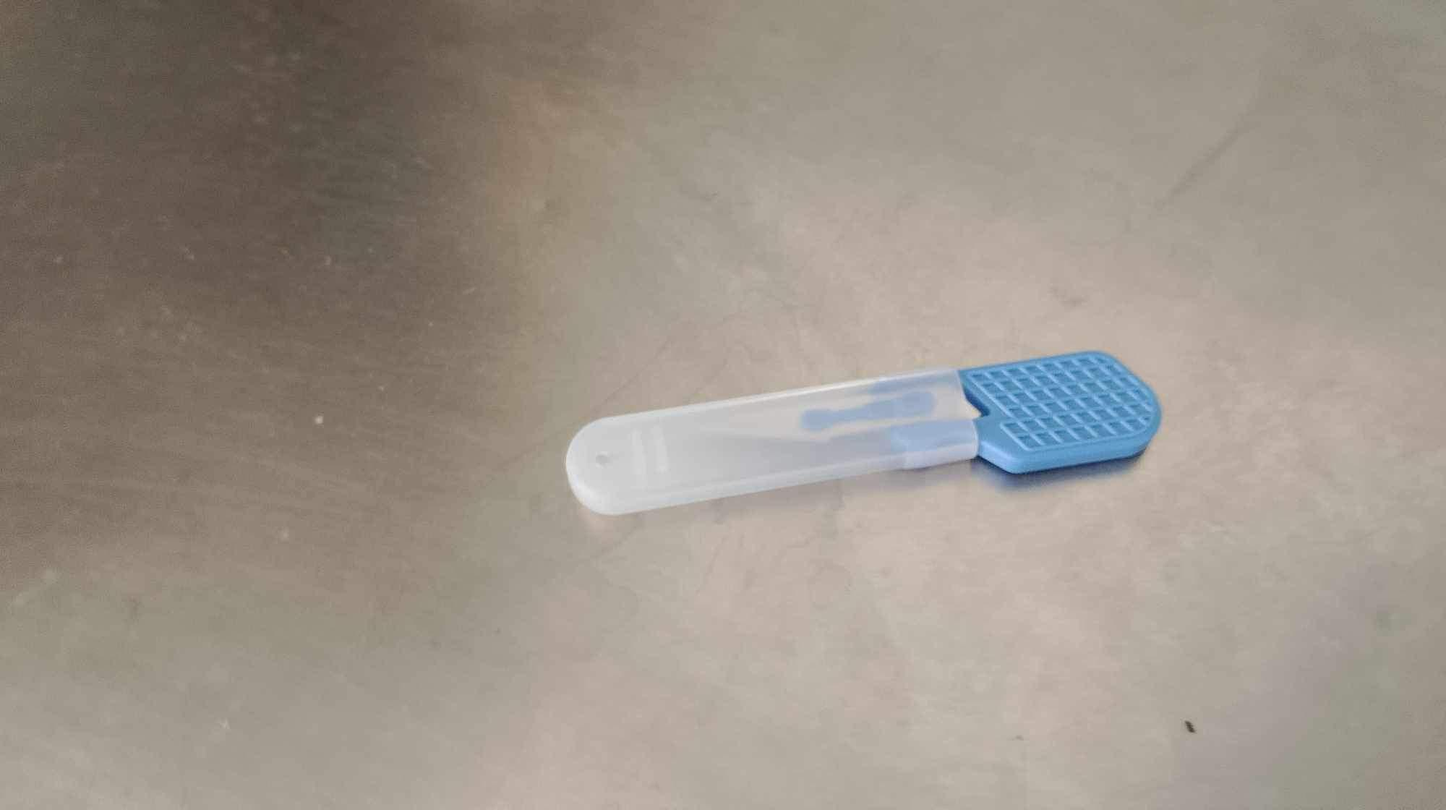Sharps: (563, 347, 1163, 518)
